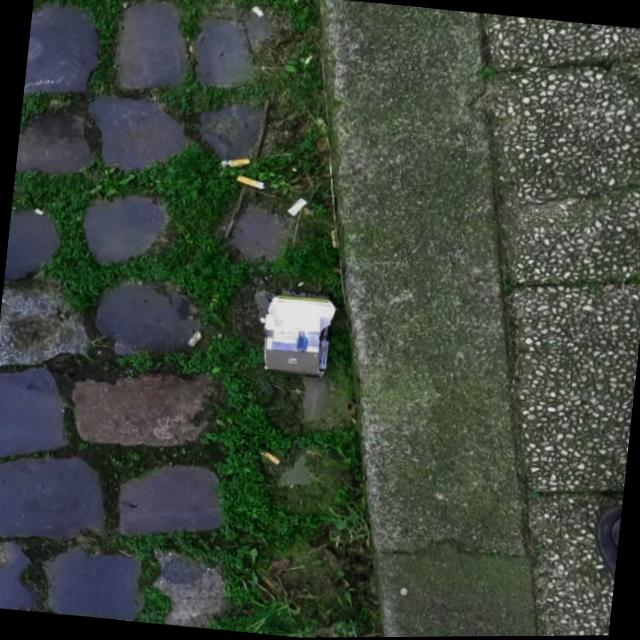Paper: (252, 282, 338, 381)
